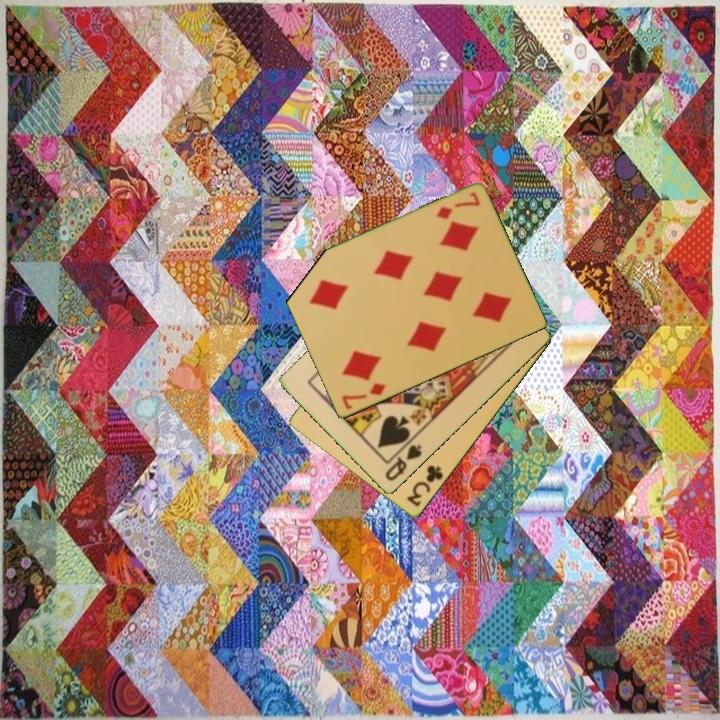3c: (403, 462, 446, 510)
7d: (338, 379, 388, 413), (433, 189, 483, 223)
Qs: (382, 441, 425, 484)
